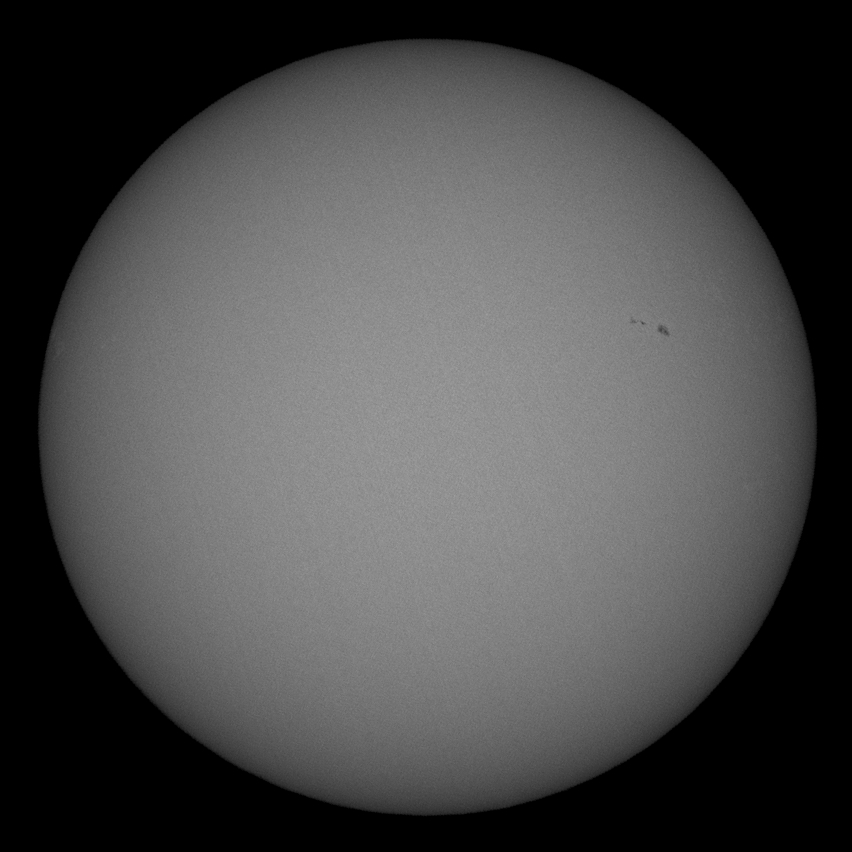sunspot: (624, 312, 675, 338)
